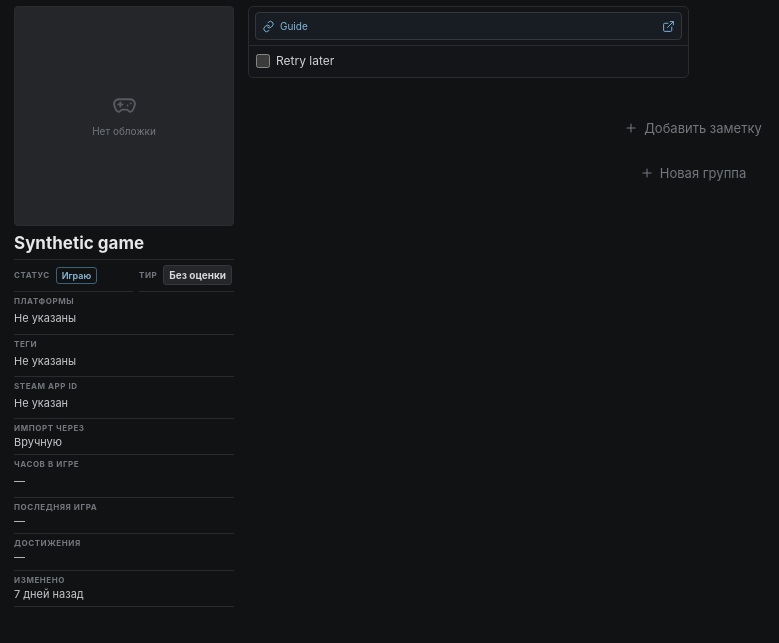
Test: Markdown task lists › keeps the controlled checkbox unchanged when saving fails
The width and height of the screenshot is (779, 643).
Click the checkbox at [263, 61], box x1=256 y1=54 x2=270 y2=68
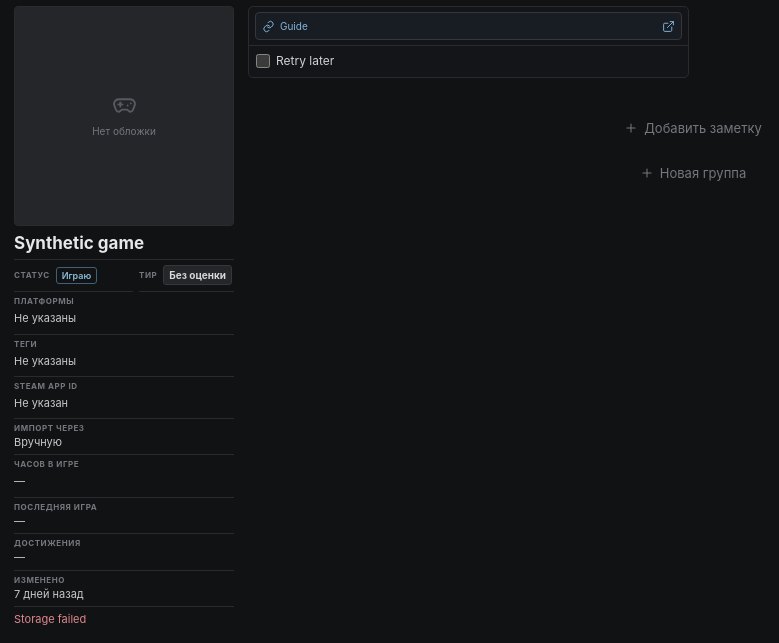
expect the message reads "Storage failed": met, box x1=14 y1=612 x2=86 y2=626
